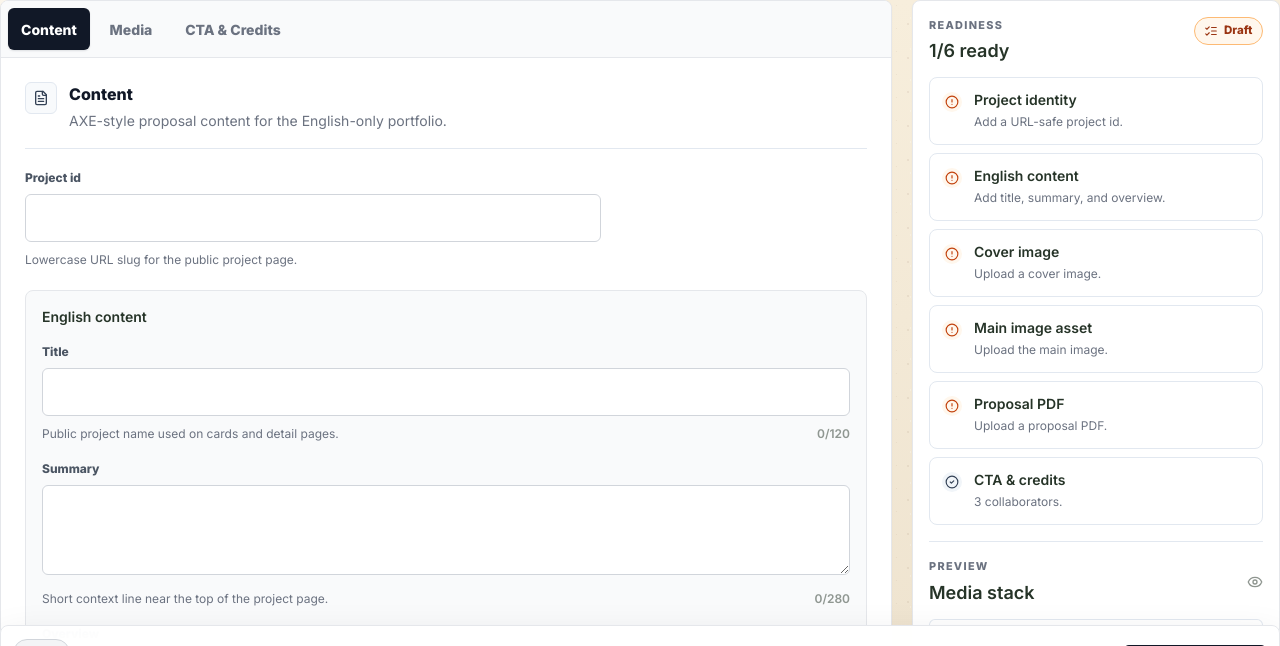
Test: AdminProjectForm basics › pre-fills proposal CTA and collaborator defaults for new projects
Click the tab "CTA & Credits". click: (233, 29)
box: [172,8,294,50]
(page scrolled)
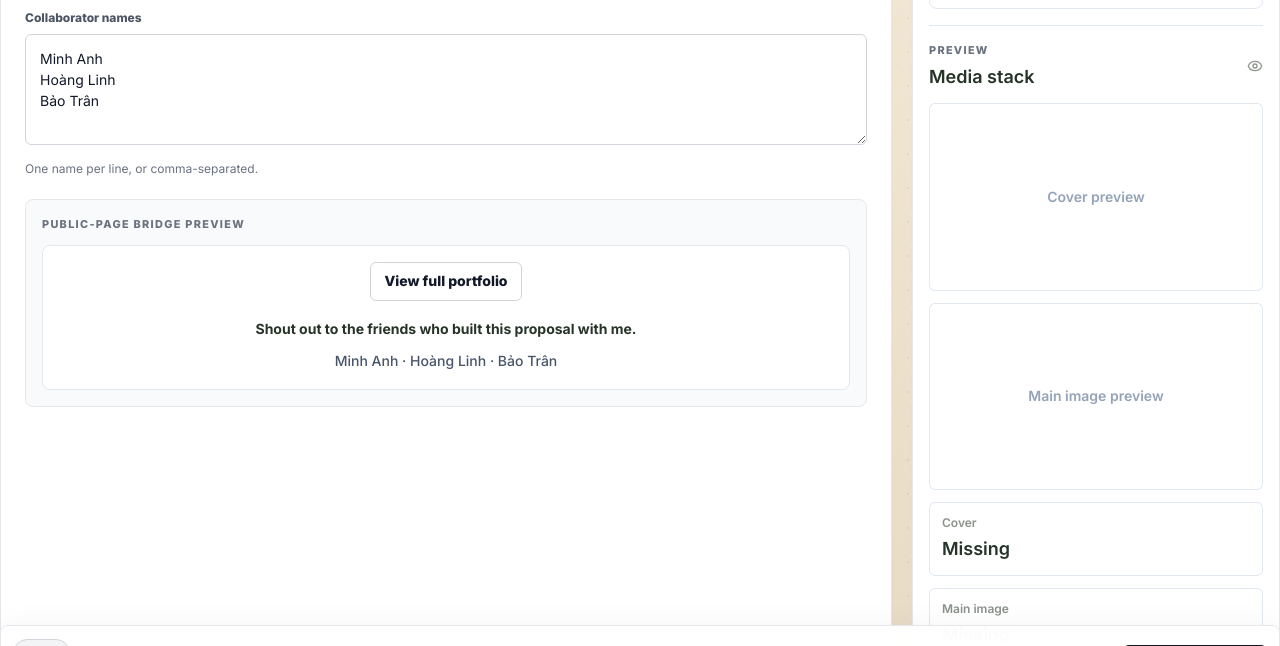
Expected: the text "Minh Anh · Hoàng Linh · Bảo Trân" is shown, [335,352,557,369]
